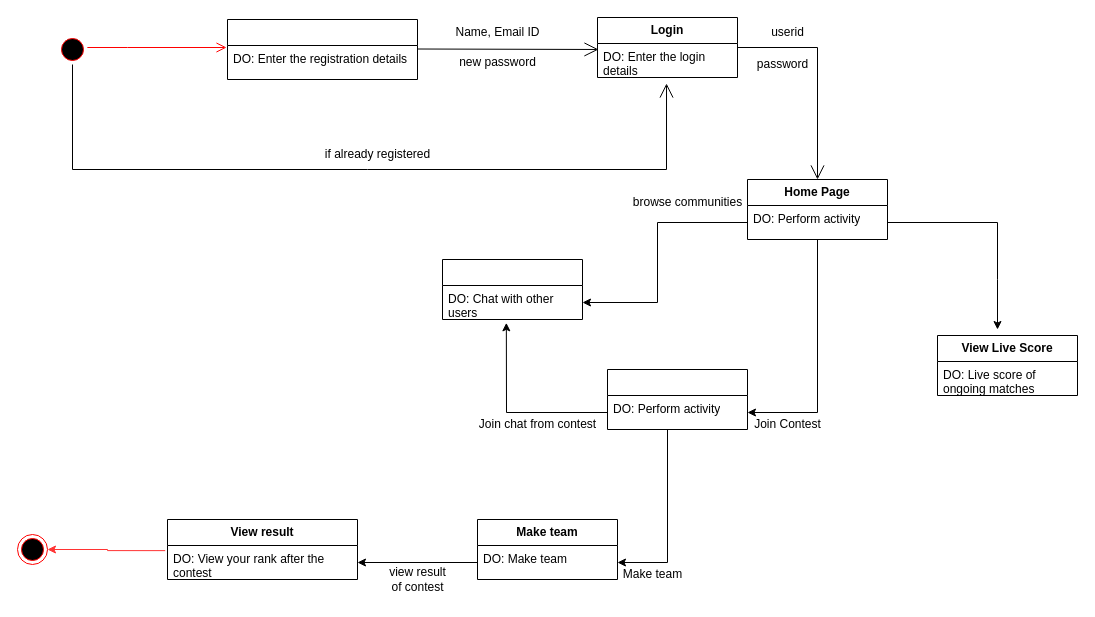
Some shapes in this 1095 by 617 pixel diagram are drawn without their labels. The box of each missing label's shape, as (x1, y1, x2, y2) in pixels:
Chat and Community: (442, 258, 582, 320)
Contests: (606, 368, 748, 430)
Sign-In: (226, 18, 418, 80)
